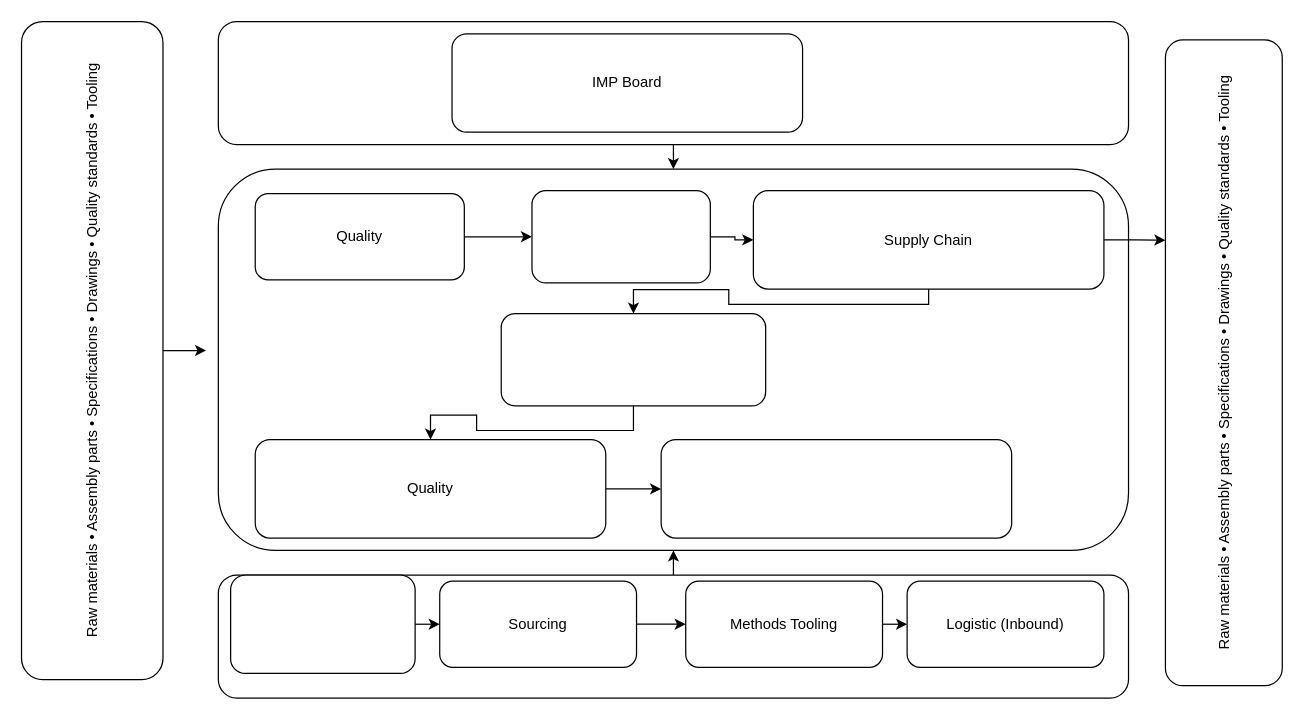
The diagram is 1304 pixels wide and 720 high, and some of its shapes have lost their labels. The centre of each missing label's shape, as x and y in pixels:
"Engineering" belongs at [322,623].
"Logistics" belongs at [836,488].
"Operations" belongs at [633,359].
"Paint parts" belongs at [620,236].
